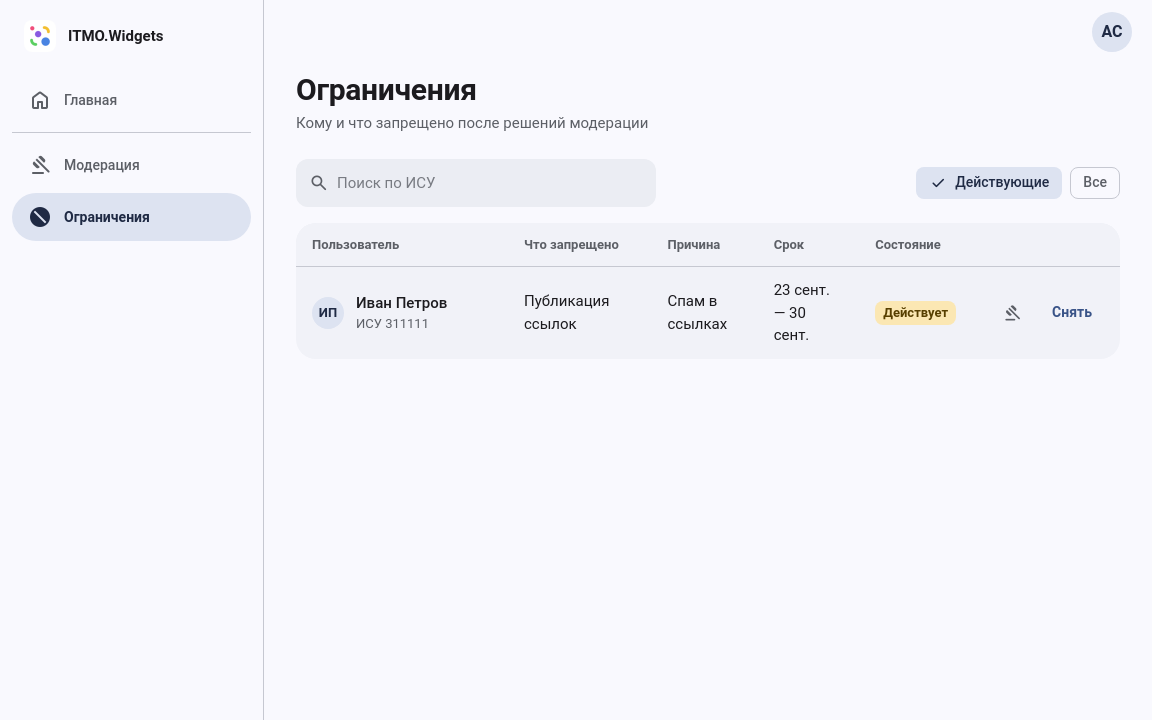
Scenario: RestrictionsPage › revokes a restriction after confirmation
What coordinates should you click on to do the following:
click the button with aria-label "Снять ограничение: Иван Петров, Публикация ссылок"
I would click on:
 (1072, 313)
Its box is x1=1040 y1=293 x2=1104 y2=333.
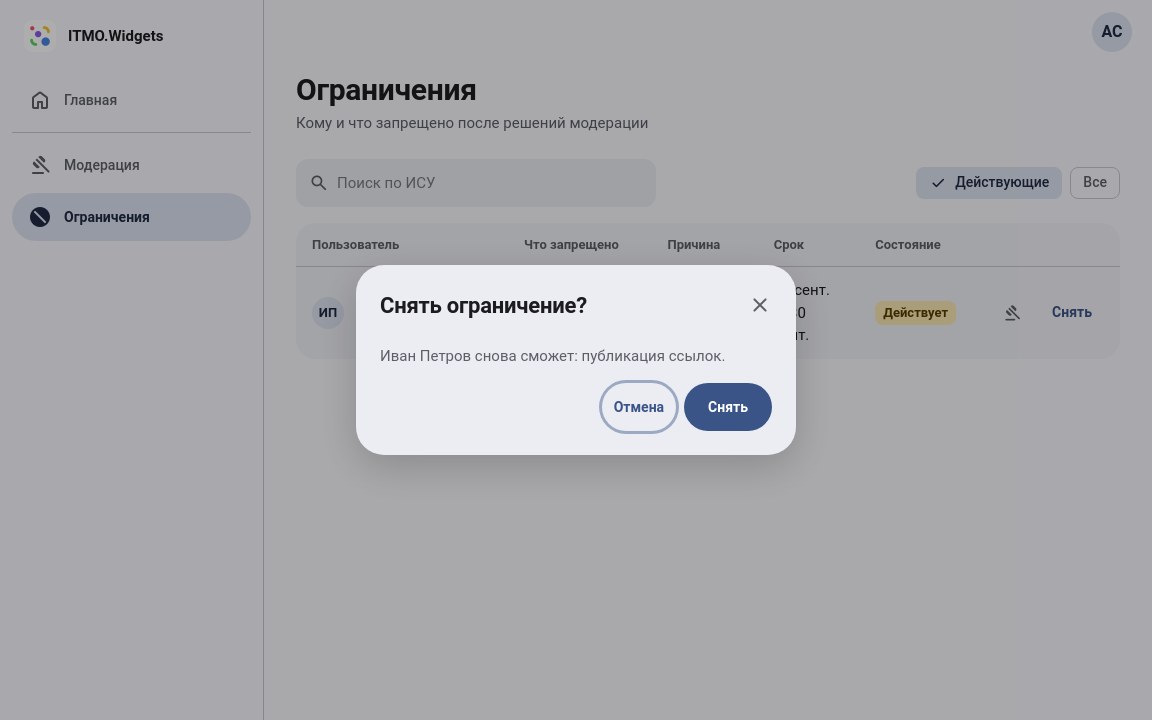
Now the dialog "Снять ограничение?" shows "Иван Петров снова сможет: публикация ссылок.", box x1=380 y1=347 x2=725 y2=365
What coordinates should you click on to do the following:
click the button "Снять"
I would click on:
 (728, 407)
Its box is x1=684 y1=383 x2=772 y2=431.
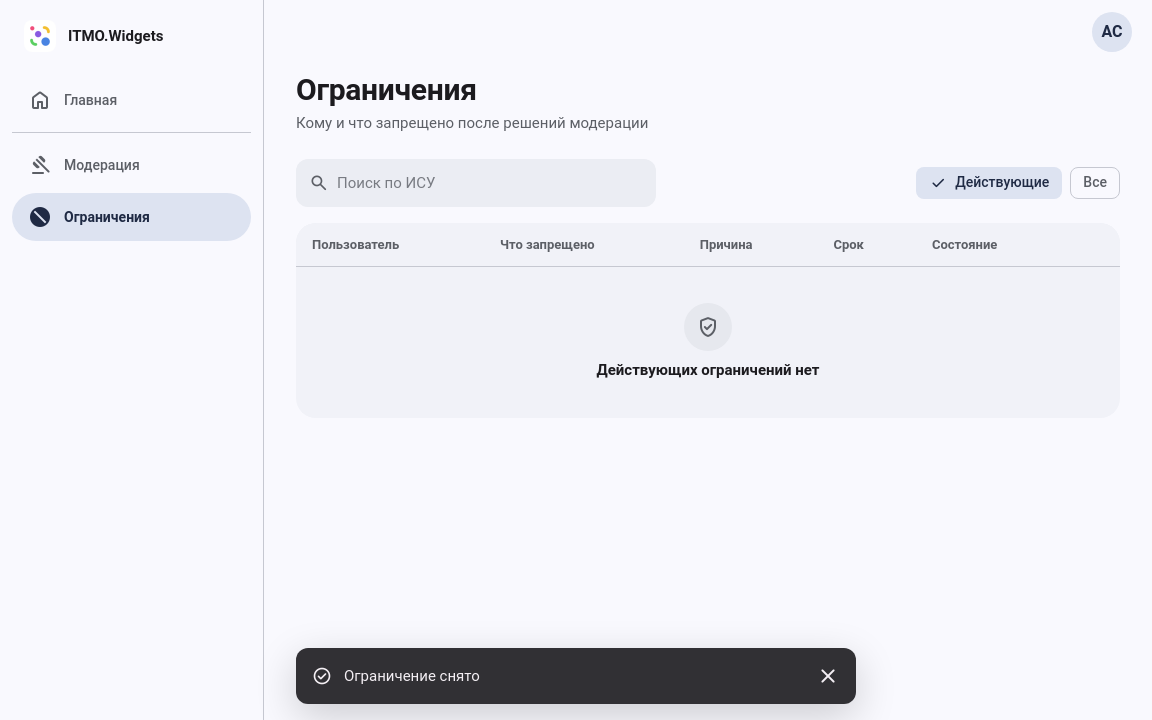
Now the text "Ограничение снято" is shown, box x1=344 y1=667 x2=480 y2=685
Now the text "Действующих ограничений нет" is shown, box x1=596 y1=359 x2=820 y2=382
